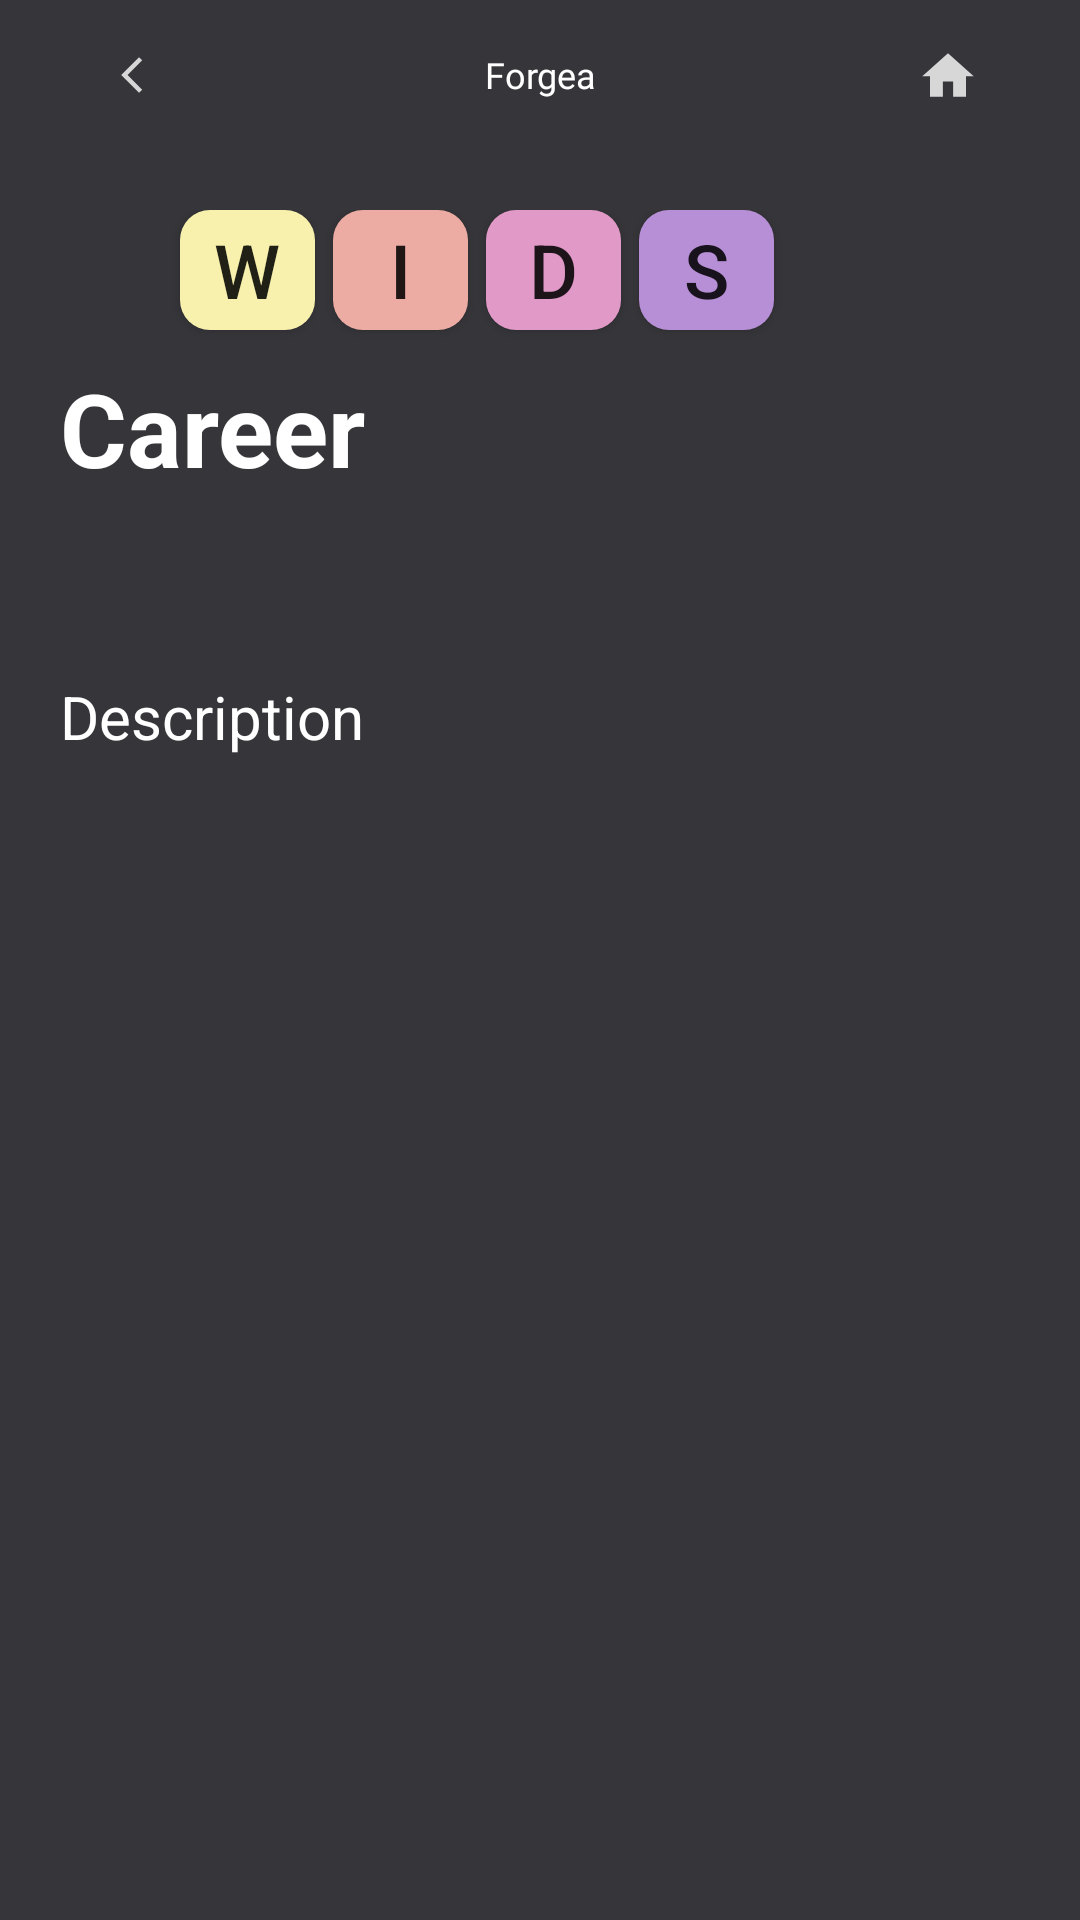

Icon bounding boxes for this 1080 x 1920 phone screenshot, format (x1, y1, x2, y2):
back arrow: (121, 57, 142, 93)
home: (923, 53, 973, 97)
